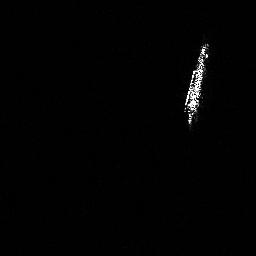ship: (179, 38, 214, 133)
